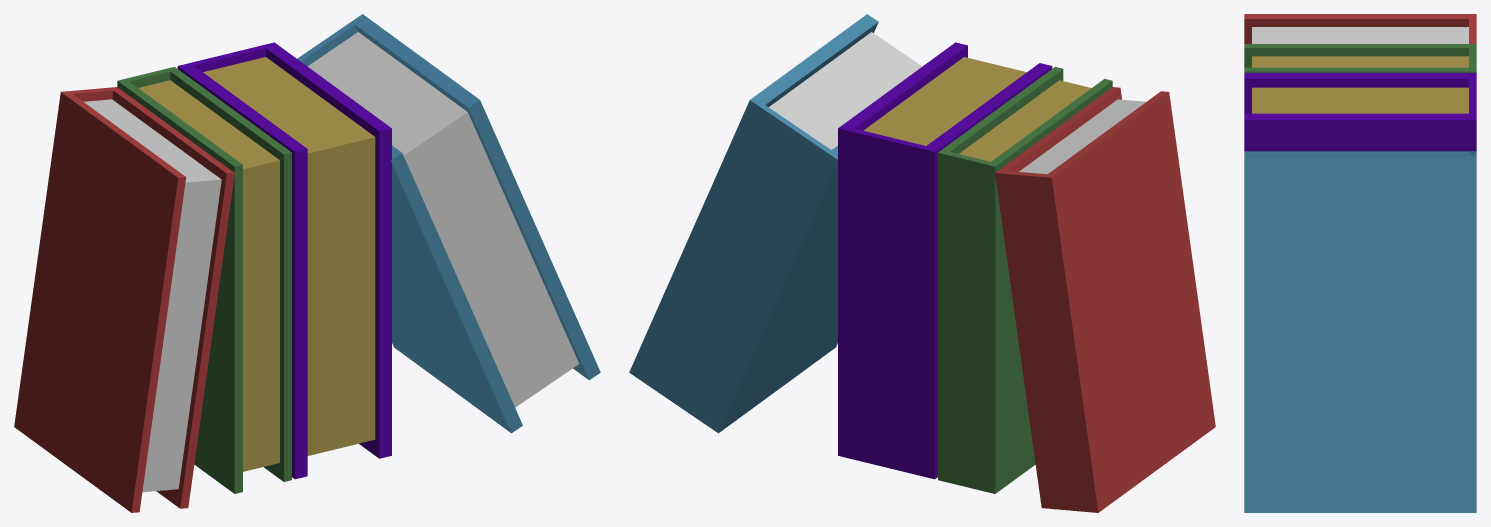
The model's file is Livres.fbx.
3 renders of one model, left to right at view 1: azimuth 30°, elevation 25°; view 2: azimuth 150°, elevation 25°; view 3: azimuth 270°, elevation 25°, orthographic.
Parts seen in each view (by area): view 1: pCube28, pCube9, pCube2, pCube10, pCube11, pCube4, pCube1, pCube13, pCube3; view 2: pCube28, pCube9, pCube3, pCube12, pCube11, pCube1, pCube2, pCube4, pCube10, pCube13; view 3: pCube9, pCube4, pCube28, pCube2, pCube1, pCube11, pCube10, pCube13, pCube3.
Boxes of the visible parts, box(x1,y1,x2,y2) form: pCube28: box(14, 87, 234, 512); pCube9: box(297, 14, 600, 433); pCube2: box(203, 57, 375, 455); pCube10: box(138, 80, 279, 471); pCube11: box(117, 79, 242, 493); pCube4: box(262, 42, 391, 458); pCube1: box(177, 63, 307, 479); pCube13: box(167, 67, 291, 481); pCube3: box(190, 44, 275, 71); pCube28: box(995, 87, 1215, 512); pCube9: box(629, 14, 922, 433); pCube3: box(840, 126, 925, 476); pCube12: box(939, 150, 993, 493); pCube11: box(988, 78, 1112, 493); pCube1: box(922, 63, 1052, 479); pCube2: box(863, 57, 1026, 145); pCube4: box(838, 42, 967, 456); pCube10: box(959, 80, 1091, 161); pCube13: box(938, 67, 1063, 480); pCube9: box(1244, 151, 1476, 512); pCube4: box(1244, 113, 1476, 151); pCube28: box(1244, 14, 1476, 43); pCube2: box(1252, 87, 1468, 113); pCube1: box(1244, 73, 1476, 113); pCube11: box(1244, 44, 1476, 67); pCube10: box(1252, 56, 1468, 67); pCube13: box(1244, 67, 1476, 72); pCube3: box(1469, 79, 1476, 118).
Bounding box in the file's own units: 1.5 × 1.04 × 0.6501.
